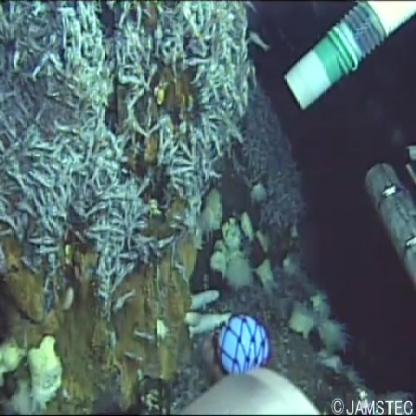Bio: (1, 3, 250, 289), (184, 284, 232, 338)
